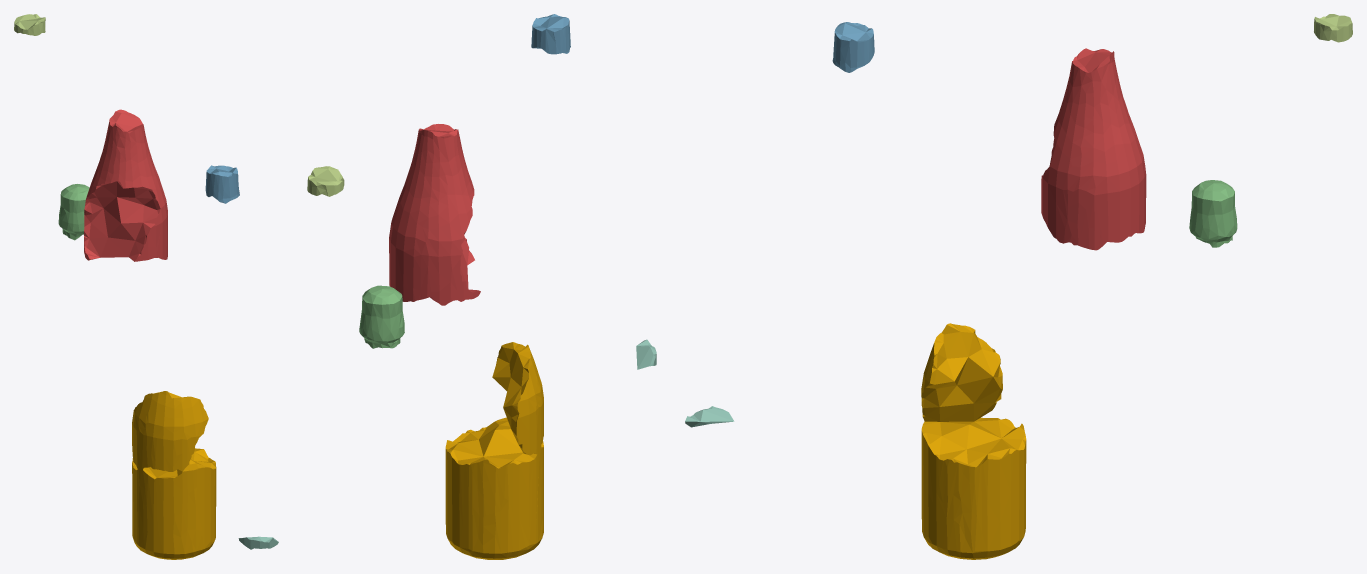
The model's file is fractured_46_6pcs_transformed.glb.
3 views of the same model, side by side, from view 1: azimuth 30°, elevation 25°; view 2: azimuth 150°, elevation 25°; view 3: azimuth 270°, elevation 25° (orthographic). The views are drawn at different scales.
Parts seen in each view (by area): view 1: piece_0.obj, piece_1.obj, piece_3.obj, piece_2.obj, piece_5.obj, piece_4.obj; view 2: piece_0.obj, piece_1.obj, piece_3.obj, piece_2.obj, piece_5.obj, piece_4.obj; view 3: piece_0.obj, piece_1.obj, piece_3.obj, piece_2.obj, piece_5.obj.
Part boxes in pixels (x1=…): piece_0.obj: x1=132, y1=391, x2=216, y2=559; piece_1.obj: x1=84, y1=109, x2=167, y2=261; piece_3.obj: x1=58, y1=184, x2=89, y2=240; piece_2.obj: x1=205, y1=165, x2=239, y2=203; piece_5.obj: x1=14, y1=14, x2=45, y2=35; piece_4.obj: x1=238, y1=536, x2=278, y2=549; piece_0.obj: x1=445, y1=342, x2=543, y2=559; piece_1.obj: x1=389, y1=124, x2=480, y2=305; piece_3.obj: x1=359, y1=285, x2=404, y2=348; piece_2.obj: x1=531, y1=14, x2=570, y2=54; piece_5.obj: x1=307, y1=166, x2=344, y2=196; piece_4.obj: x1=636, y1=339, x2=656, y2=369; piece_0.obj: x1=921, y1=323, x2=1026, y2=559; piece_1.obj: x1=1041, y1=48, x2=1146, y2=250; piece_3.obj: x1=1189, y1=180, x2=1237, y2=247; piece_2.obj: x1=832, y1=22, x2=874, y2=72; piece_5.obj: x1=1314, y1=14, x2=1352, y2=42.
Size of the model in its own units: 0.2633 by 1.46 by 1.67.
